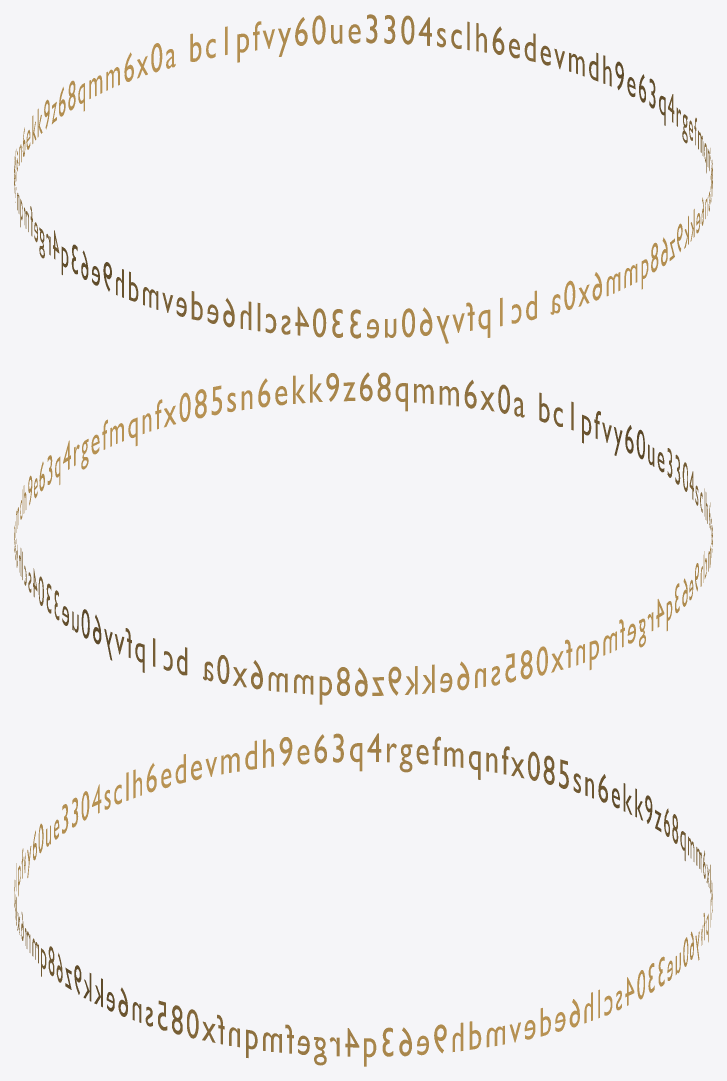
The model's file is demo.glb.
3 views of the same model, one above another, from view 1: azimuth 30°, elevation 25°; view 2: azimuth 150°, elevation 25°; view 3: azimuth 270°, elevation 25° (orthographic).
Parts seen in each view (by area): view 1: Cube.002; view 2: Cube.002; view 3: Cube.002.
Boxes of the visible parts, bbox=[...] form: Cube.002: bbox=[14, 14, 712, 343]; Cube.002: bbox=[14, 372, 712, 704]; Cube.002: bbox=[14, 733, 712, 1066].
Bounding box in the file's own units: 16 × 0.9675 × 16.
